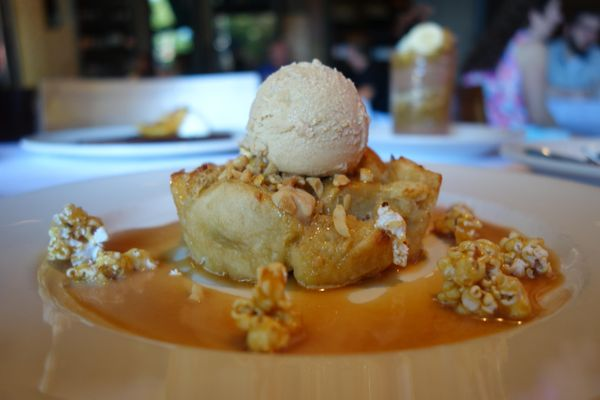soup: (169, 59, 444, 290)
